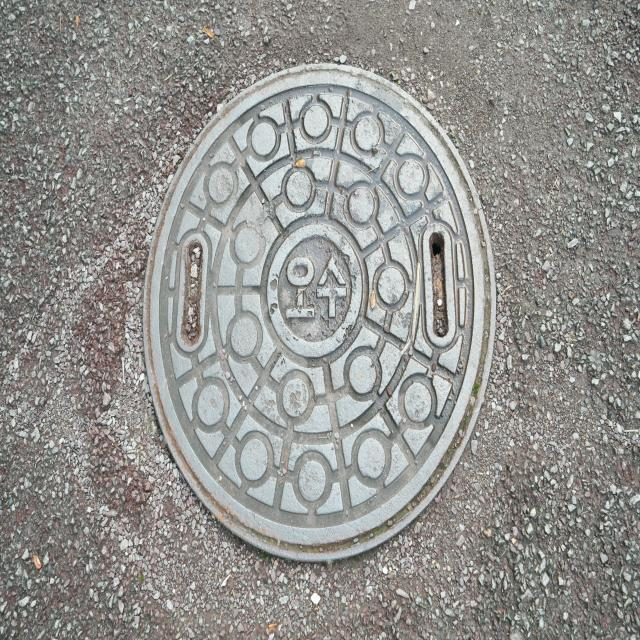manhole: (142, 64, 498, 566)
